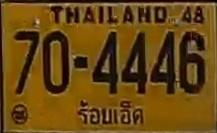0: (42, 30, 69, 93)
4: (92, 31, 118, 93), (150, 30, 175, 93), (121, 31, 146, 93)
6: (179, 31, 204, 92)
7: (13, 30, 38, 94)
RET: (71, 98, 147, 129)
